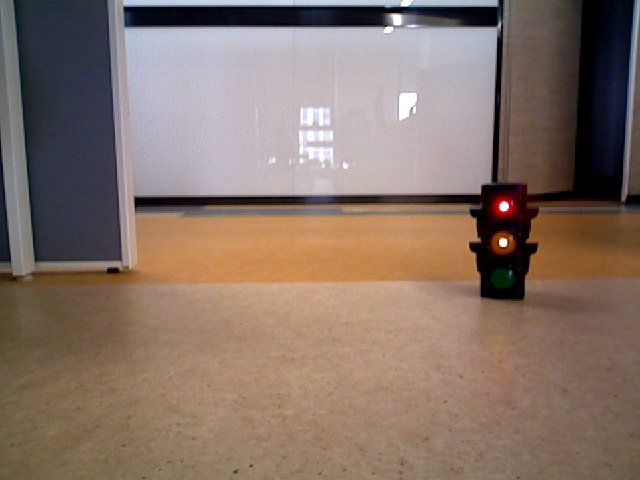red: (482, 187, 520, 297)
